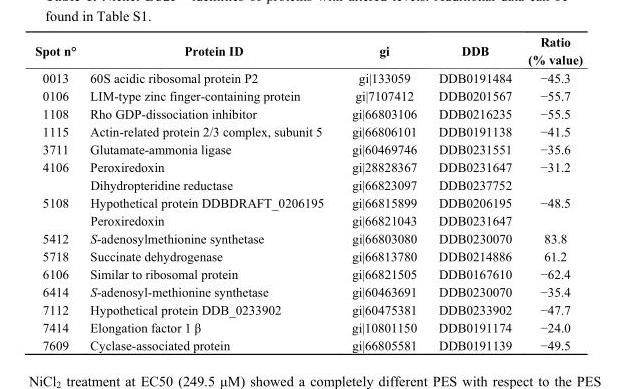table: (34, 34, 582, 352)
table column: (82, 34, 337, 352), (427, 34, 519, 352), (337, 34, 427, 352), (519, 34, 582, 352), (34, 34, 82, 352)
table column header: (34, 34, 582, 68)
table row: (34, 34, 582, 68), (34, 68, 582, 86), (34, 86, 582, 104), (34, 104, 582, 122), (34, 139, 582, 157), (34, 157, 582, 175), (34, 175, 582, 193), (34, 193, 582, 211), (34, 211, 582, 229), (34, 246, 582, 264), (34, 264, 582, 282), (34, 282, 582, 300), (34, 300, 582, 318), (34, 122, 582, 139), (34, 229, 582, 246), (34, 318, 582, 335), (34, 335, 582, 352)
table spanning cell: (34, 157, 82, 193), (34, 193, 82, 229)
